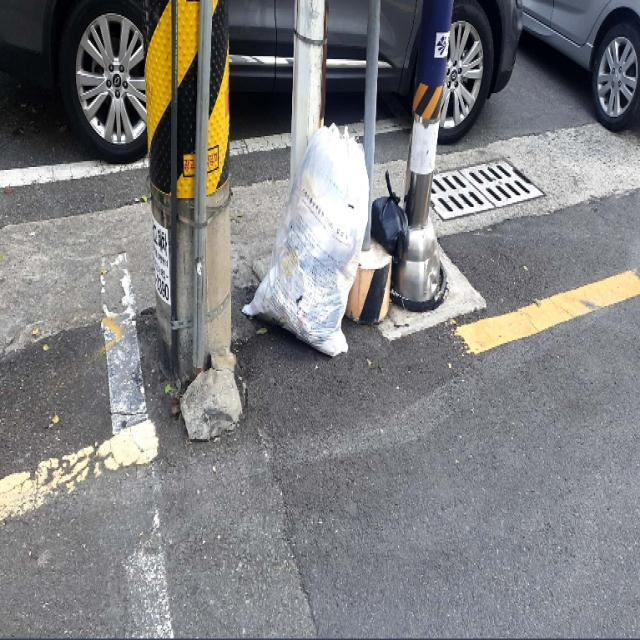Trashbag: (368, 189, 412, 263)
